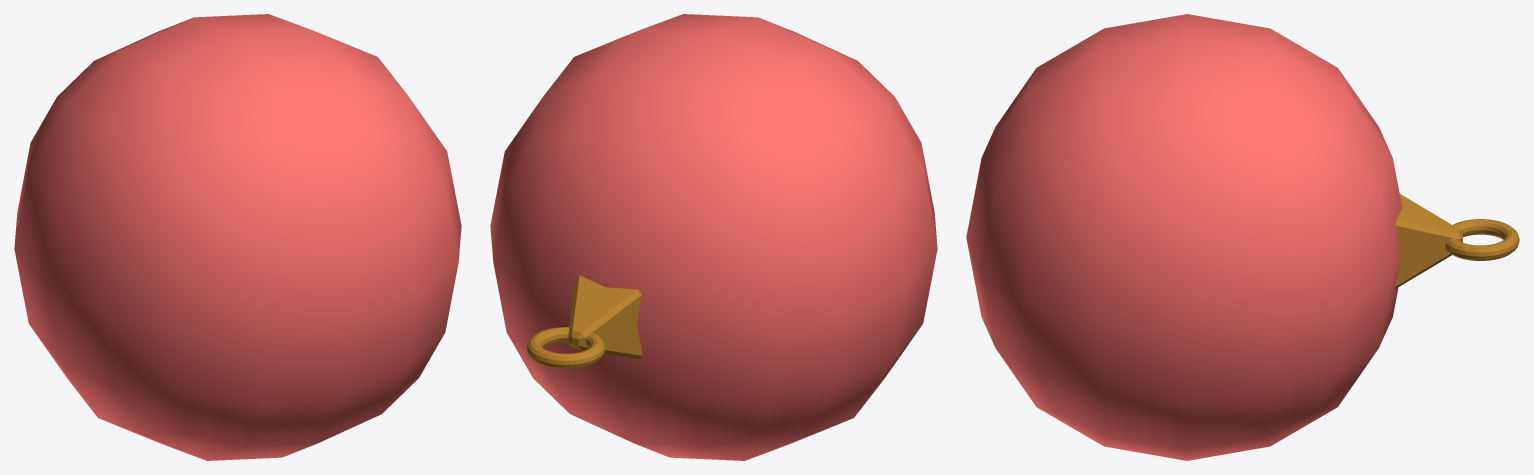
The model's file is Ball_3.fbx.
3 renders of one model, left to right at view 1: azimuth 30°, elevation 25°; view 2: azimuth 150°, elevation 25°; view 3: azimuth 270°, elevation 25°, orthographic.
Parts seen in each view (by area): view 1: Cube.004; view 2: Cube.004; view 3: Cube.004.
Boxes of the visible parts, x1=… form: Cube.004: x1=14, y1=14, x2=461, y2=460; Cube.004: x1=490, y1=14, x2=937, y2=460; Cube.004: x1=966, y1=14, x2=1519, y2=460.
Bounding box in the file's own units: 0.2933 × 0.2933 × 0.3674.
